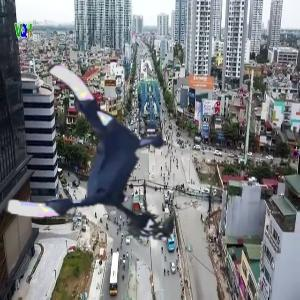drone: (8, 65, 180, 237)
